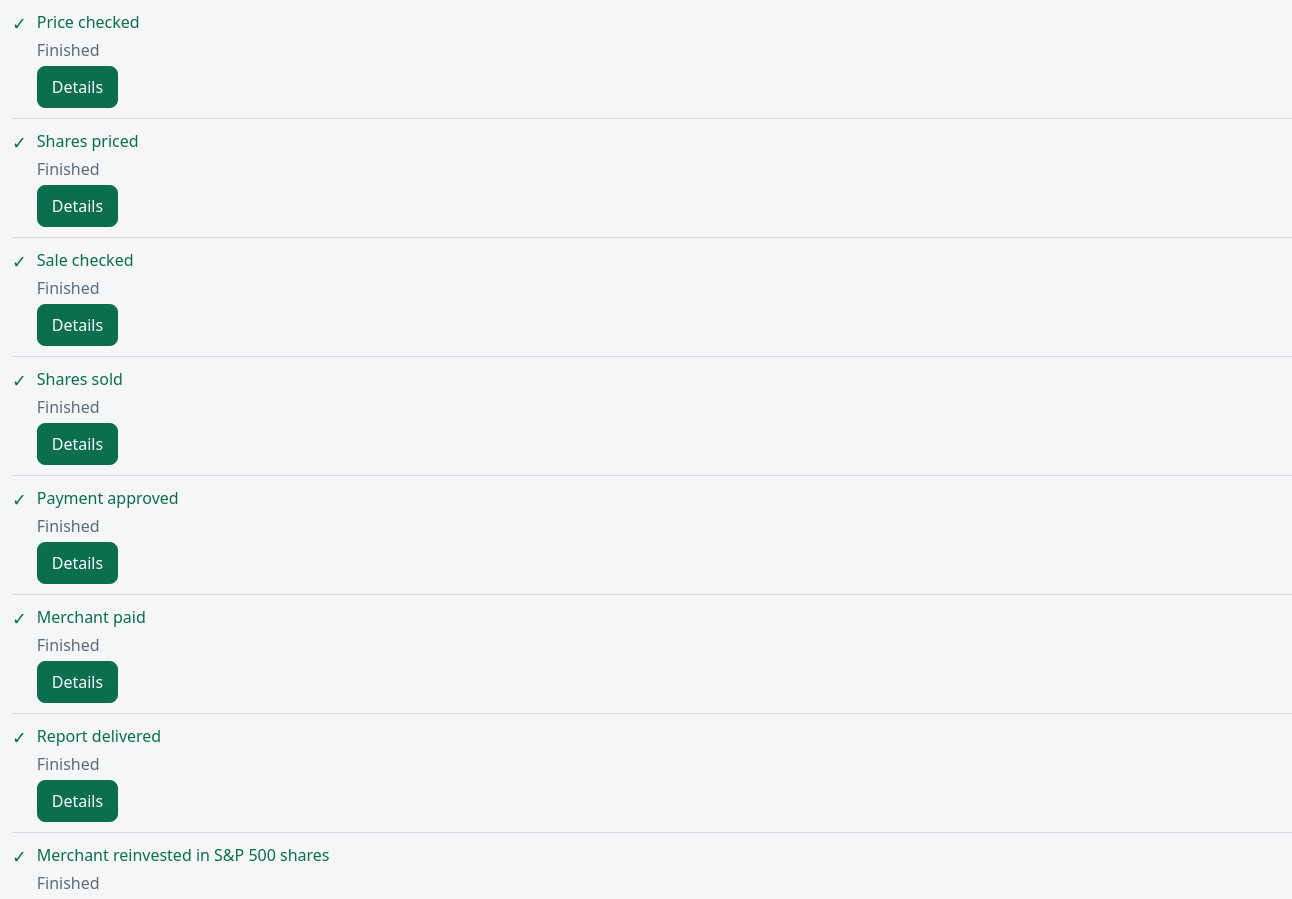
it: Progress › keeps settlement jargon out of the collapsed list and shows it after expand
What coordinates should you click on to do the following:
click the button "Details" below "Payment approved"
I would click on:
 (78, 563)
Its box is x1=37 y1=542 x2=118 y2=584.
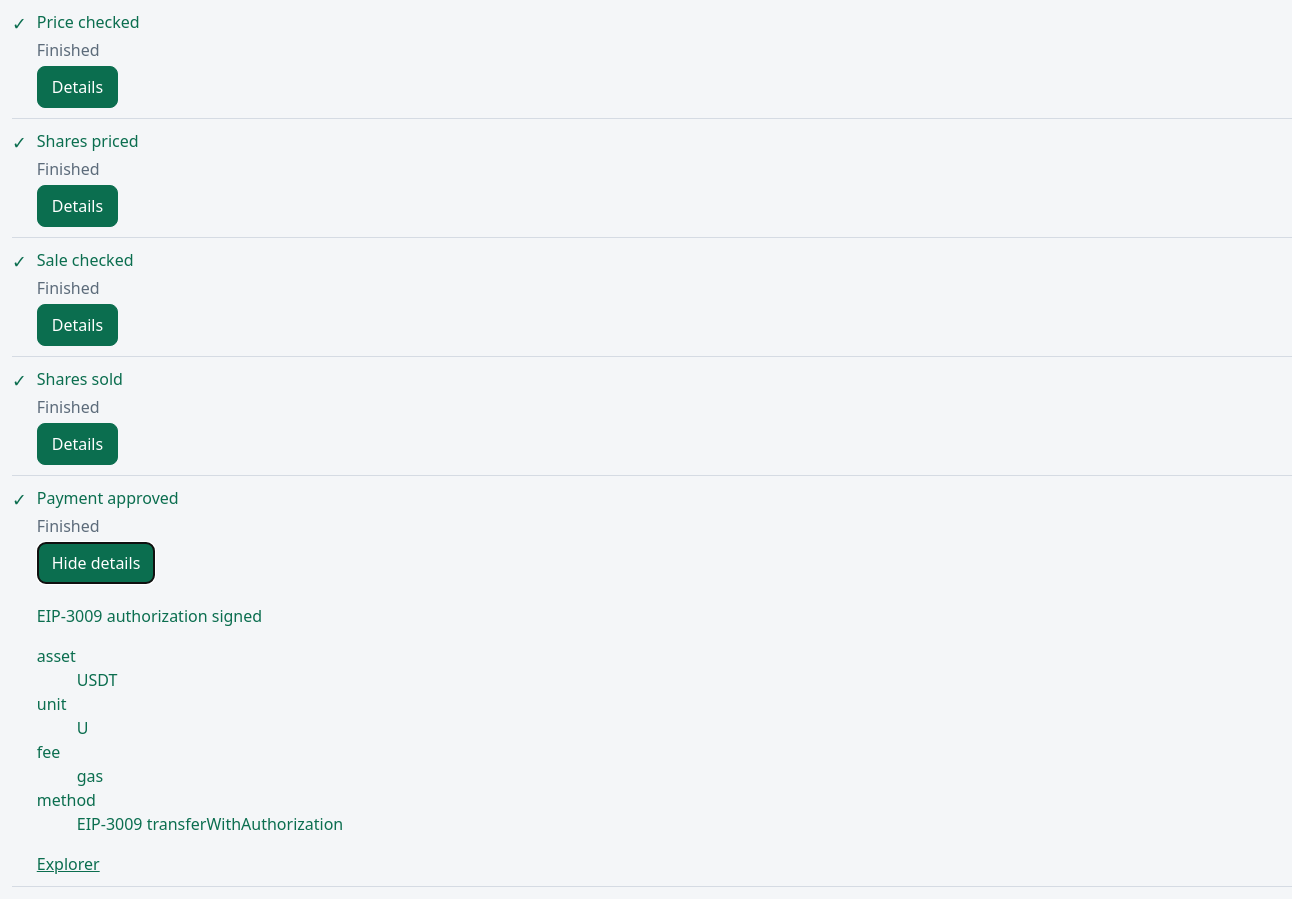
Now the button "Hide details" is expanded, box x1=37 y1=542 x2=155 y2=584
Now the text "EIP-3009 transferWithAuthorization" is shown, box x1=77 y1=813 x2=343 y2=835
Now the text "USDT" is shown, box x1=77 y1=669 x2=117 y2=691
